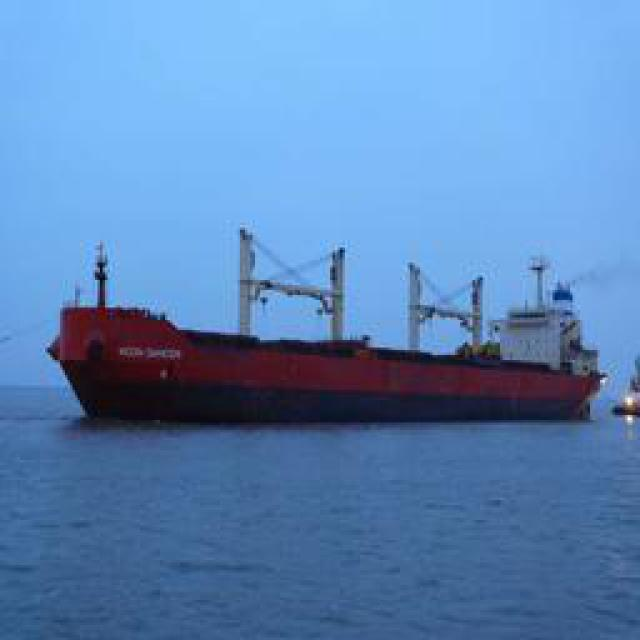Ship: (46, 233, 611, 428)
